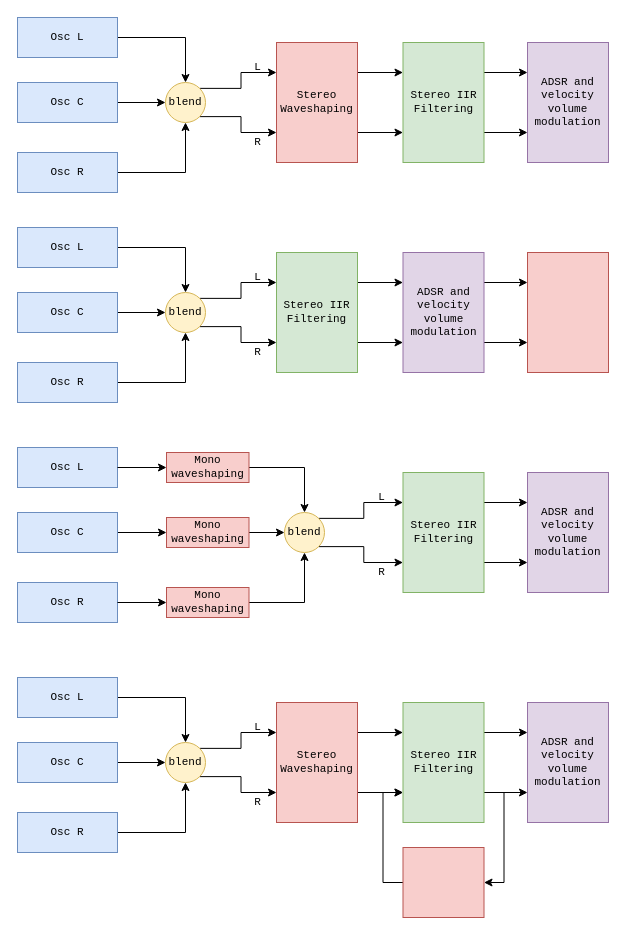
Some shapes in this 626 by 935 pixel diagram are drawn without their labels. The box of each missing label's shape, as (x1, y1, x2, y2) in pixels:
Stereo Waveshaping (Distortion): (526, 252, 608, 372)
Stereo wavshaping: tanh(gx) feedback saturation: (402, 846, 484, 918)
